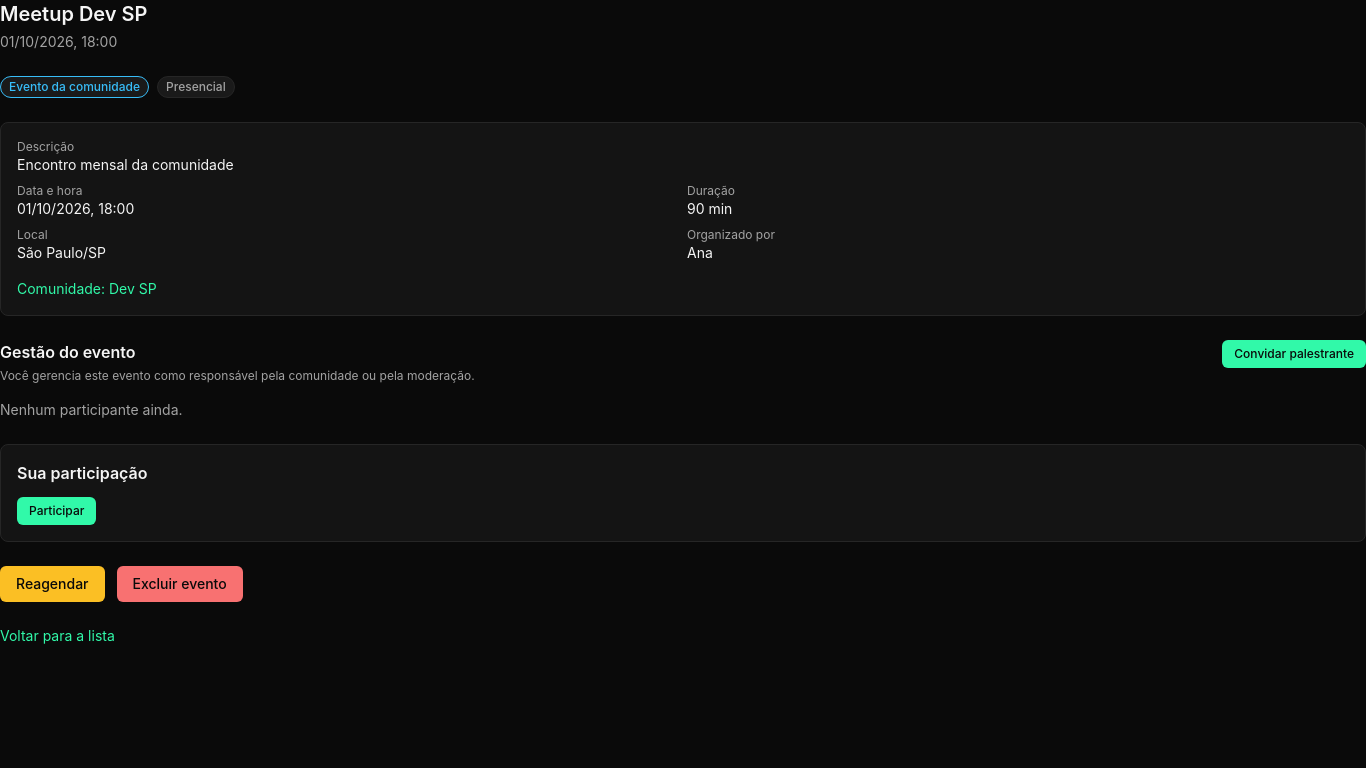
Test case: EventDetailPage › moderador excluindo evento alheio vê confirmação reforçada
What coordinates should you click on to do the following:
click the button "Excluir evento"
I would click on:
 (180, 584)
Its box is left=116, top=566, right=243, bottom=602.
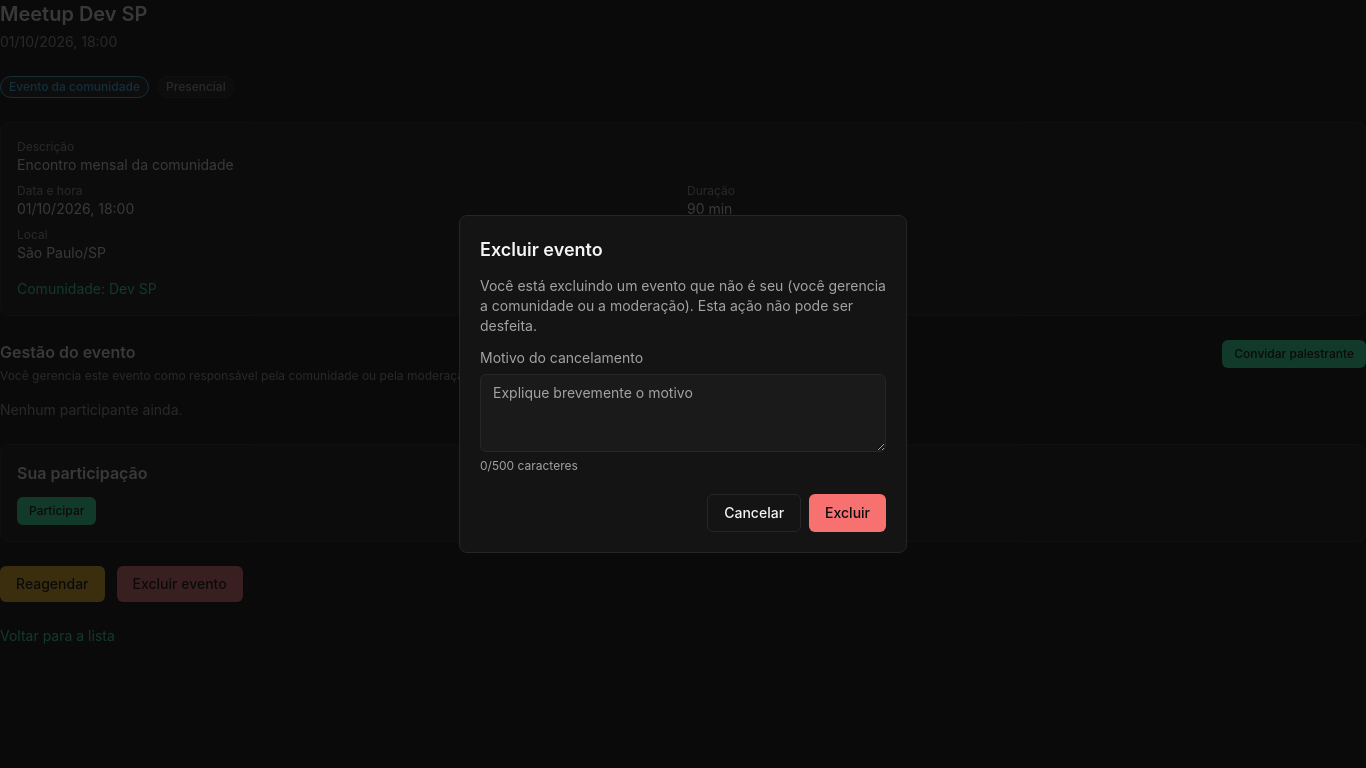
Expected: the text "Você está excluindo um evento que não é seu (você gerencia a comunidade ou a moderação). Esta ação não pode ser desfeita" is shown, left=480, top=277, right=886, bottom=334
